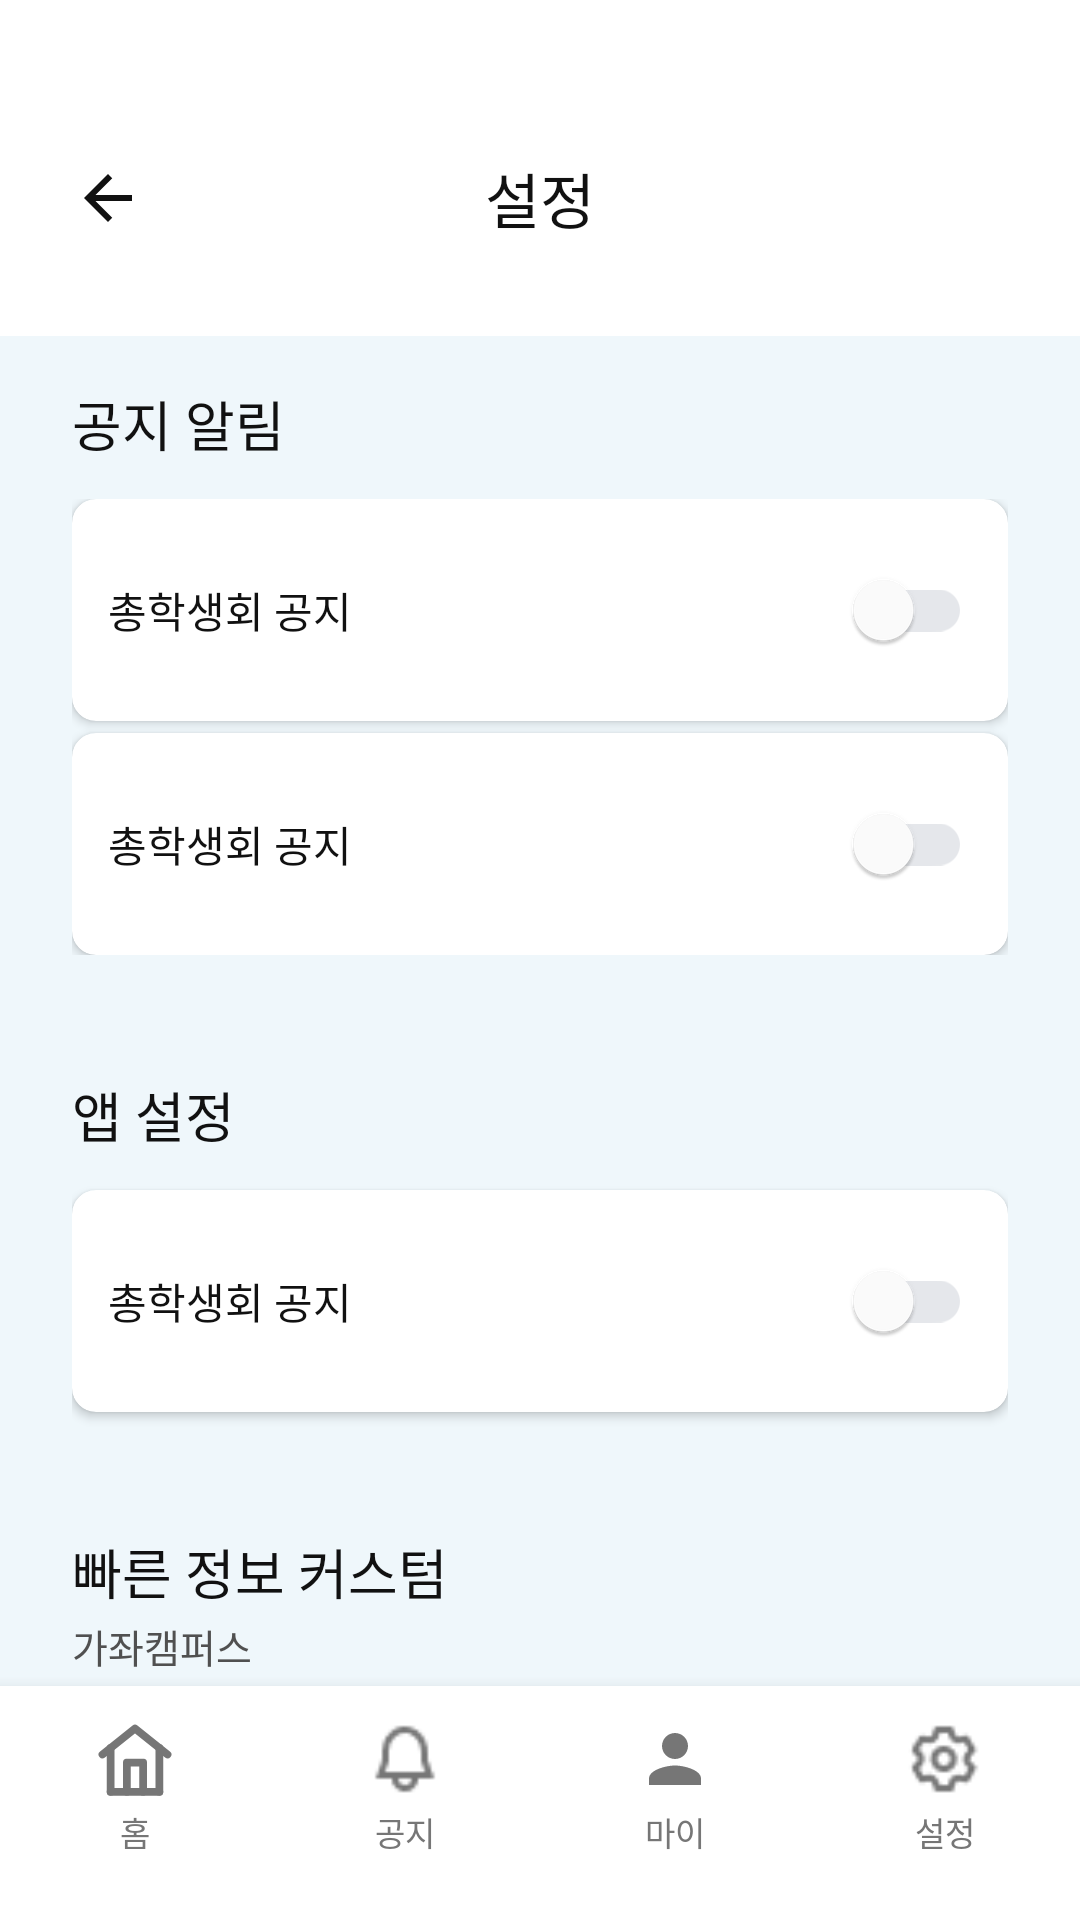

Icons on this 1080×1920 Android screen, each with the point to tap as [x,y]:
back: [108,198]
